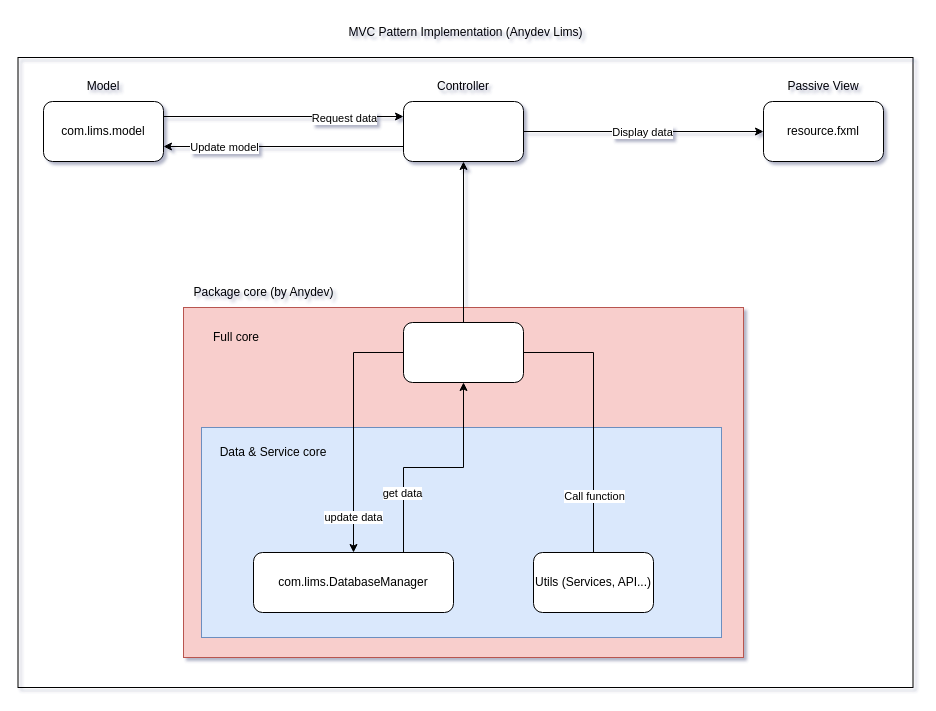
Some shapes in this 936 by 711 pixel diagram are drawn without their labels. Here are the shapes that lost their labels. From the top down, the centre of each, then its label:
the point at 463,131: view.controller
the point at 463,352: com.lims.controller
